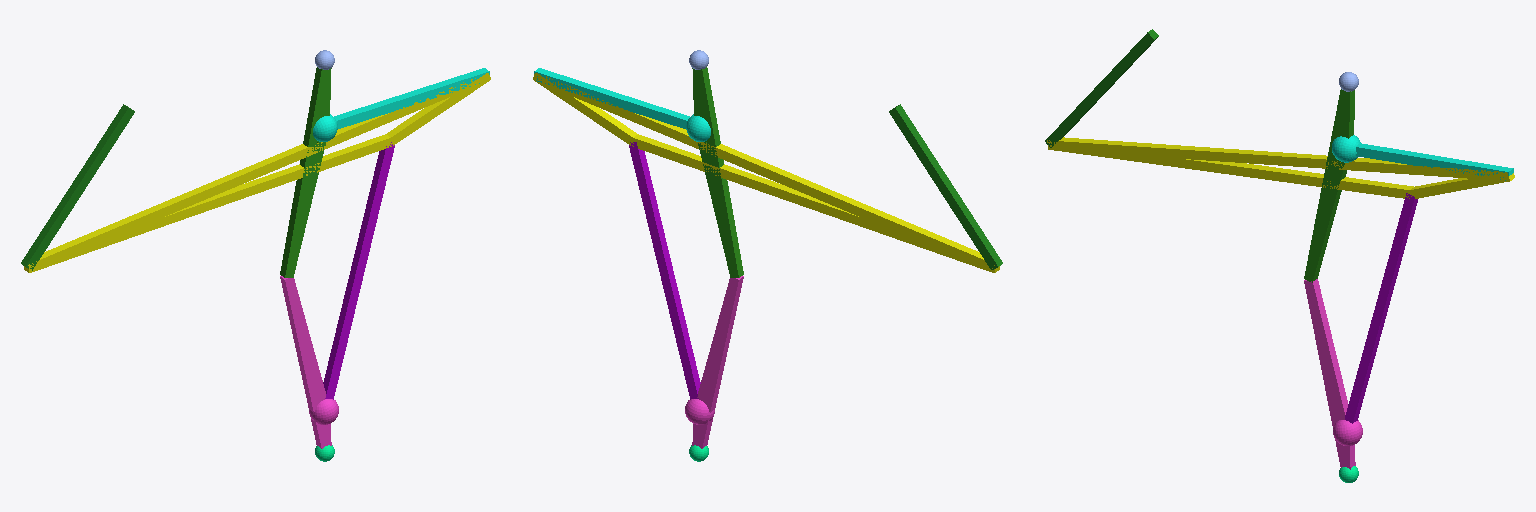
The robot description file, URDF, robot "Robot":
<?xml version="1.0"?>
<robot  name="Robot" >
 <link  name="L7" >
  <visual >
   <origin  rpy="0.0 0.0 0.0"  xyz="2.2558598182634495e-18 0.0 0.23043881490459198" />
   <geometry >
    <box  size="0.02 0.02 0.46087762980918395" />
   </geometry>
   <material  name="L7_">
    <color  rgba="0.22805773121194928 0.6120967953154014 0.1518055185515783 0.7" />
   </material>
  </visual>
  <collision  name="L7_0collision" >
   <origin  rpy="0.0 0.0 0.0"  xyz="2.2558598182634495e-18 0.0 0.23043881490459198" />
   <geometry >
    <box  size="0.02 0.02 0.46087762980918395" />
   </geometry>
  </collision>
  <visual >
   <origin  rpy="-3.141592653589793 -0.07190014748544638 3.141592653589793"  xyz="-0.011418202738261123 0.0 0.30234499271936227" />
   <geometry >
    <box  size="0.02 0.02 0.317886598499686" />
   </geometry>
   <material name="L7_">
    <color  rgba="0.22805773121194928 0.6120967953154014 0.1518055185515783 0.7" />
   </material>
  </visual>
  <collision  name="L7_1collision" >
   <origin  rpy="-3.141592653589793 -0.07190014748544638 3.141592653589793"  xyz="-0.011418202738261123 0.0 0.30234499271936227" />
   <geometry >
    <box  size="0.02 0.02 0.317886598499686" />
   </geometry>
  </collision>
  <visual >
   <origin  rpy="0.0 -0.15747823743771439 0.0"  xyz="-0.011418202738261125 0.0 0.07190617781477031" />
   <geometry >
    <box  size="0.02 0.02 0.14561419933099107" />
   </geometry>
   <material name="L7_">
    <color  rgba="0.22805773121194928 0.6120967953154014 0.1518055185515783 0.7" />
   </material>
  </visual>
  <collision  name="L7_2collision" >
   <origin  rpy="0.0 -0.15747823743771439 0.0"  xyz="-0.011418202738261125 0.0 0.07190617781477031" />
   <geometry >
    <box  size="0.02 0.02 0.14561419933099107" />
   </geometry>
  </collision>
  <inertial >
   <origin  rpy="0.0 0.0 0.0"  xyz="-0.00761 0.0 0.20156" />
   <mass  value="0.14839951685427272" />
   <inertia  iyy="0.0013795531334773483"  ixx="0.0013802003079160677"  ixy="6.119627755455107e-22"  izz="9.246126684898068e-06"  ixz="-1.6309410470624286e-05"  iyz="-7.763056961585554e-23" />
  </inertial>
 </link>
 <link  name="G" >
  <visual >
   <origin  rpy="0.0 0.0 0.0"  xyz="0.0 0.0 0.0" />
   <geometry >
    <sphere  radius="0.02" />
   </geometry>
   <material name="G_">
    <color  rgba="0.6471661013432043 0.7522130508474295 0.9849666425566113 0.7" />
   </material>
  </visual>
  <collision  name="G_collision" >
   <origin  rpy="0.0 0.0 0.0"  xyz="0.0 0.0 0.0" />
   <geometry >
    <sphere  radius="0.02" />
   </geometry>
  </collision>
  <inertial >
   <origin  rpy="0.0 0.0 0.0"  xyz="0.0 0.0 0.0" />
   <mass  value="0.047249553509990494" />
   <inertia  iyy="7.55992856159848e-06"  ixx="7.55992856159848e-06"  ixy="0.0"  izz="7.55992856159848e-06"  ixz="0.0"  iyz="0.0" />
  </inertial>
 </link>
 <link  name="L6" >
  <visual >
   <origin  rpy="0.0 -0.05297851195307901 0.0"  xyz="-0.008603636141404636 0.0 0.16224663505260734" />
   <geometry >
    <box  size="0.02 0.02 0.3249491845858219" />
   </geometry>
   <material name="L6_">
    <color  rgba="0.9338020296180713 0.31857780988113427 0.8094810326335653 0.7" />
   </material>
  </visual>
  <collision  name="L6_0collision" >
   <origin  rpy="0.0 -0.05297851195307901 0.0"  xyz="-0.008603636141404636 0.0 0.16224663505260734" />
   <geometry >
    <box  size="0.02 0.02 0.3249491845858219" />
   </geometry>
  </collision>
  <visual >
   <origin  rpy="0.0 0.0 0.0"  xyz="2.7755575615628914e-17 0.0 0.20723453410371823" />
   <geometry >
    <box  size="0.02 0.02 0.41446906820743645" />
   </geometry>
   <material name="L6_">
    <color  rgba="0.9338020296180713 0.31857780988113427 0.8094810326335653 0.7" />
   </material>
  </visual>
  <collision  name="L6_1collision" >
   <origin  rpy="0.0 0.0 0.0"  xyz="2.7755575615628914e-17 0.0 0.20723453410371823" />
   <geometry >
    <box  size="0.02 0.02 0.41446906820743645" />
   </geometry>
  </collision>
  <visual >
   <origin  rpy="0.0 0.1889616931375886 0.0"  xyz="-0.00860363614140458 0.0 0.36948116915632556" />
   <geometry >
    <box  size="0.02 0.02 0.09160641060289676" />
   </geometry>
   <material name="L6_">
    <color  rgba="0.9338020296180713 0.31857780988113427 0.8094810326335653 0.7" />
   </material>
  </visual>
  <collision  name="L6_2collision" >
   <origin  rpy="0.0 0.1889616931375886 0.0"  xyz="-0.00860363614140458 0.0 0.36948116915632556" />
   <geometry >
    <box  size="0.02 0.02 0.09160641060289676" />
   </geometry>
  </collision>
  <inertial >
   <origin  rpy="0.0 0.0 0.0"  xyz="-0.00574 0.0 0.24632" />
   <mass  value="0.10055953774321144" />
   <inertia  iyy="0.0007982424938455275"  ixx="0.0007999403268716969"  ixy="7.77549775799846e-23"  izz="5.006136156711119e-06"  ixz="1.127218193266216e-05"  iyz="0.0" />
  </inertial>
 </link>
 <link  name="EE" >
  <visual >
   <origin  rpy="0.0 0.0 0.0"  xyz="0.0 0.0 0.0" />
   <geometry >
    <sphere  radius="0.02" />
   </geometry>
   <material name="EE_">
    <color  rgba="0.06555796778691025 0.9586798728904428 0.6235813953121928 0.7" />
   </material>
  </visual>
  <collision  name="EE_collision" >
   <origin  rpy="0.0 0.0 0.0"  xyz="0.0 0.0 0.0" />
   <geometry >
    <sphere  radius="0.02" />
   </geometry>
  </collision>
  <inertial >
   <origin  rpy="0.0 0.0 0.0"  xyz="0.0 0.0 0.0" />
   <mass  value="0.047249553509990494" />
   <inertia  iyy="7.55992856159848e-06"  ixx="7.55992856159848e-06"  ixy="0.0"  izz="7.55992856159848e-06"  ixz="0.0"  iyz="0.0" />
  </inertial>
 </link>
 <link  name="L3" >
  <visual >
   <origin  rpy="0.0 0.0 0.0"  xyz="0.0 0.0 0.18861" />
   <geometry >
    <box  size="0.02 0.02 0.3772164653355748" />
   </geometry>
   <material name="L3_">
    <color  rgba="0.17713714233133848 0.5456505310703439 0.1626445122303456 0.7" />
   </material>
  </visual>
  <collision  name="L3_collision" >
   <origin  rpy="0.0 0.0 0.0"  xyz="0.0 0.0 0.18861" />
   <geometry >
    <box  size="0.02 0.02 0.3772164653355748" />
   </geometry>
  </collision>
  <inertial >
   <origin  rpy="0.0 0.0 0.0"  xyz="0.0 0.0 0.18861" />
   <mass  value="0.2127500864492642" />
   <inertia  iyy="0.0025298159180522826"  ixx="0.0025298159180522826"  ixy="0.0"  izz="1.4183339096617613e-05"  ixz="0.0"  iyz="0.0" />
  </inertial>
 </link>
 <link  name="L4" >
  <visual >
   <origin  rpy="0.0 4.440892098500626e-16 0.0"  xyz="-5.551115123125783e-17 0.0 0.5359497273105445" />
   <geometry >
    <box  size="0.02 0.02 1.071899454621089" />
   </geometry>
   <material name="L4_">
    <color  rgba="0.9017222272963605 0.9027480451842569 0.0729823810295438 0.7" />
   </material>
  </visual>
  <collision  name="L4_0collision" >
   <origin  rpy="0.0 4.440892098500626e-16 0.0"  xyz="-5.551115123125783e-17 0.0 0.5359497273105445" />
   <geometry >
    <box  size="0.02 0.02 1.071899454621089" />
   </geometry>
  </collision>
  <visual >
   <origin  rpy="3.141592653589793 0.22450775114872523 3.141592653589793"  xyz="0.027072813316937755 0.0 0.9533448815741774" />
   <geometry >
    <box  size="0.02 0.02 0.24321286159435923" />
   </geometry>
   <material name="L4_">
    <color  rgba="0.9017222272963605 0.9027480451842569 0.0729823810295438 0.7" />
   </material>
  </visual>
  <collision  name="L4_1collision" >
   <origin  rpy="3.141592653589793 0.22450775114872523 3.141592653589793"  xyz="0.027072813316937755 0.0 0.9533448815741774" />
   <geometry >
    <box  size="0.02 0.02 0.24321286159435923" />
   </geometry>
  </collision>
  <visual >
   <origin  rpy="0.0 0.06477062209215423 0.0"  xyz="0.02707281331693781 0.0 0.417395154263633" />
   <geometry >
    <box  size="0.02 0.02 0.8365444447814013" />
   </geometry>
   <material name="L4_">
    <color  rgba="0.9017222272963605 0.9027480451842569 0.0729823810295438 0.7" />
   </material>
  </visual>
  <collision  name="L4_2collision" >
   <origin  rpy="0.0 0.06477062209215423 0.0"  xyz="0.02707281331693781 0.0 0.417395154263633" />
   <geometry >
    <box  size="0.02 0.02 0.8365444447814013" />
   </geometry>
  </collision>
  <inertial >
   <origin  rpy="0.0 0.0 0.0"  xyz="0.01805 0.0 0.63556" />
   <mass  value="0.8183452139914555" />
   <inertia  iyy="0.04337064931756292"  ixx="0.043264639563651376"  ixy="8.429883649311612e-21"  izz="0.00016056610151095593"  ixz="-0.0007356428124067383"  iyz="9.37777280959548e-20" />
  </inertial>
 </link>
 <link  name="L8" >
  <visual >
   <origin  rpy="0.0 0.0 0.0"  xyz="-0.0 0.0 0.1893" />
   <geometry >
    <box  size="0.02 0.02 0.3785900609862303" />
   </geometry>
   <material name="L8_">
    <color  rgba="0.10420351058316157 0.9412420404536782 0.8427520062693113 0.7" />
   </material>
  </visual>
  <collision  name="L8_collision" >
   <origin  rpy="0.0 0.0 0.0"  xyz="-0.0 0.0 0.1893" />
   <geometry >
    <box  size="0.02 0.02 0.3785900609862303" />
   </geometry>
  </collision>
  <inertial >
   <origin  rpy="0.0 0.0 0.0"  xyz="-0.0 0.0 0.1893" />
   <mass  value="0.21352479439623392" />
   <inertia  iyy="0.0025575009522997415"  ixx="0.0025575009522997415"  ixy="0.0"  izz="1.4234986293082262e-05"  ixz="0.0"  iyz="0.0" />
  </inertial>
 </link>
 <link  name="L5" >
  <visual >
   <origin  rpy="0.0 0.0 0.0"  xyz="0.0 0.0 0.28823" />
   <geometry >
    <box  size="0.02 0.02 0.5764582971335448" />
   </geometry>
   <material name="L5_">
    <color  rgba="0.7347828391680242 0.07258411530814457 0.8457535229679948 0.7" />
   </material>
  </visual>
  <collision  name="L5_collision" >
   <origin  rpy="0.0 0.0 0.0"  xyz="0.0 0.0 0.28823" />
   <geometry >
    <box  size="0.02 0.02 0.5764582971335448" />
   </geometry>
  </collision>
  <inertial >
   <origin  rpy="0.0 0.0 0.0"  xyz="0.0 0.0 0.28823" />
   <mass  value="0.32512247958331925" />
   <inertia  iyy="0.00901413368137422"  ixx="0.00901413368137422"  ixy="0.0"  izz="2.1674831972221282e-05"  ixz="0.0"  iyz="0.0" />
  </inertial>
 </link>
 <joint  name="Ground_main"  type="revolute" >
  <parent  link="G" />
  <child  link="L7" />
  <origin  rpy="3.141592653589793 -0.19083519881055921 3.141592653589793"  xyz="0.0 0.0 0.0" />
  <axis  xyz="0 1 0" />
  <limit  velocity="17.907078125461823"  lower="-3.141592653589793"  effort="5.3999999999999995"  upper="3.141592653589793" />
  <dynamics  damping="0.05"  friction="0" />
 </joint>
 <joint  name="J0m"  type="revolute" >
  <parent  link="L7" />
  <child  link="L6" />
  <origin  rpy="0.0 -0.4033487460974359 0.0"  xyz="4.511719636526899e-18 0.0 0.46087762980918395" />
  <axis  xyz="0 1 0" />
  <limit  velocity="6.283185307179586"  lower="-3.141592653589793"  effort="600.0"  upper="3.141592653589793" />
  <dynamics  damping="0.05"  friction="0" />
 </joint>
 <joint  name="EE_JJ"  type="revolute" >
  <parent  link="L6" />
  <child  link="EE" />
  <origin  rpy="3.141592653589793 -0.21251354728687688 3.141592653589793"  xyz="8.326672684688674e-17 0.0 0.41446906820743645" />
  <axis  xyz="0 1 0" />
  <limit  velocity="6.283185307179586"  lower="-3.141592653589793"  effort="600.0"  upper="3.141592653589793" />
  <dynamics  damping="0.05"  friction="0" />
 </joint>
 <joint  name="J0_0"  type="revolute" >
  <parent  link="G" />
  <child  link="L3" />
  <origin  rpy="3.141592653589793 -0.6776744833942576 3.141592653589793"  xyz="-0.44803263751078415 0.0 0.0" />
  <axis  xyz="0 1 0" />
  <limit  velocity="6.283185307179586"  lower="-3.141592653589793"  effort="600.0"  upper="3.141592653589793" />
  <dynamics  damping="0.05"  friction="0" />
 </joint>
 <joint  name="J1_0"  type="revolute" >
  <parent  link="L3" />
  <child  link="L4" />
  <origin  rpy="3.141592653589793 -0.7272651080805895 3.141592653589793"  xyz="5.551115123125783e-17 0.0 0.3772164653355747" />
  <axis  xyz="0 1 0" />
  <limit  velocity="6.283185307179586"  lower="-3.141592653589793"  effort="600.0"  upper="3.141592653589793" />
  <dynamics  damping="0.05"  friction="0" />
 </joint>
 <joint  name="J2_0"  type="revolute" >
  <parent  link="L4" />
  <child  link="L8" />
  <origin  rpy="3.141592653589793 -0.09014337909294401 3.141592653589793"  xyz="-1.1102230246251565e-16 0.0 1.071899454621089" />
  <axis  xyz="0 1 0" />
  <limit  velocity="6.283185307179586"  lower="-3.141592653589793"  effort="600.0"  upper="3.141592653589793" />
  <dynamics  damping="0.05"  friction="0" />
 </joint>
 <link  name="J3_0_L8Pseudo" >
  <visual >
   <geometry >
    <sphere  radius="0.03" />
   </geometry>
   <material name = "J3_0_">
    <color  rgba="0.10420351058316157 0.9412420404536782 0.8427520062693113 0.5" />
   </material>
  </visual>
 </link>
 <joint  name="J3_0_L8_revolute"  type="revolute" >
  <parent  link="L8" />
  <child  link="J3_0_L8Pseudo" />
  <origin  rpy="0.0 0.0 0.0"  xyz="-5.551115123125783e-17 0.0 0.3785900609862303" />
  <axis  xyz="0 1 0" />
  <limit  velocity="6.283185307179586"  lower="-3.141592653589793"  effort="600.0"  upper="3.141592653589793" />
  <dynamics  damping="0.05"  friction="0" />
 </joint>
 <joint  name="J3_0_L8_fix"  type="fixed" >
  <parent  link="L7" />
  <child  link="J3_0_L7Pseudo" />
  <origin  rpy="0.0 1.3042477717572325 0.0"  xyz="-0.02283640547652227 0.0 0.14381235562954064" />
 </joint>
 <link  name="J3_0_L7Pseudo" >
  <visual >
   <geometry >
    <sphere  radius="0.03" />
   </geometry>
   <material name = "J3_0_">
    <color  rgba="0.22805773121194928 0.6120967953154014 0.1518055185515783 0.5" />
   </material>
  </visual>
 </link>
 <joint  name="J4_1_0"  type="revolute" >
  <parent  link="L4" />
  <child  link="L5" />
  <origin  rpy="3.141592653589793 1.1418973044975522 3.141592653589793"  xyz="0.05414562663387562 0.0 0.834790308527266" />
  <axis  xyz="0 1 0" />
  <limit  velocity="6.283185307179586"  lower="-3.141592653589793"  effort="600.0"  upper="3.141592653589793" />
  <dynamics  damping="0.05"  friction="0" />
 </joint>
 <link  name="J5_1_0_L6Pseudo" >
  <visual >
   <geometry >
    <sphere  radius="0.03" />
   </geometry>
   <material name = "J5_1_0_">
    <color  rgba="0.9338020296180713 0.31857780988113427 0.8094810326335653 0.5" />
   </material>
  </visual>
 </link>
 <joint  name="J5_1_0_L6_revolute"  type="revolute" >
  <parent  link="L6" />
  <child  link="J5_1_0_L6Pseudo" />
  <origin  rpy="0.0 0.0 0.0"  xyz="-0.017207272282809244 0.0 0.32449327010521467" />
  <axis  xyz="0 1 0" />
  <limit  velocity="6.283185307179586"  lower="-3.141592653589793"  effort="600.0"  upper="3.141592653589793" />
  <dynamics  damping="0.05"  friction="0" />
 </joint>
 <joint  name="J5_1_0_L6_fix"  type="fixed" >
  <parent  link="L5" />
  <child  link="J5_1_0_L5Pseudo" />
  <origin  rpy="0.0 -0.47555583426417214 0.0"  xyz="1.6653345369377348e-16 0.0 0.5764582971335448" />
 </joint>
 <link  name="J5_1_0_L5Pseudo" >
  <visual >
   <geometry >
    <sphere  radius="0.03" />
   </geometry>
   <material name="J5_1_">
    <color  rgba="0.7347828391680242 0.07258411530814457 0.8457535229679948 0.5" />
   </material>
  </visual>
 </link>
</robot>

--- Facts derived from the render (not from the file) ---
3 views of the same robot in one strip: view 1: azimuth 30°, elevation 25°; view 2: azimuth 150°, elevation 25°; view 3: azimuth 330°, elevation 25° (orthographic).
Model Robot with 12 links and 11 joints (9 revolute, 2 fixed), rooted at G, posed every joint at zero.
Links seen in each view (by area): view 1: L4, L5, L7, L3, L6, L8, J5_1_0_L6Pseudo; view 2: L4, L5, L7, L3, L6, L8, J5_1_0_L6Pseudo; view 3: L4, L5, L7, L6, L8, L3, J5_1_0_L6Pseudo, J3_0_L8Pseudo.
Link boxes in pixels (x1,y1,x2,y2): L4: (24,73,490,272); L5: (323,142,394,399); L7: (280,67,331,277); L3: (21,104,134,270); L6: (280,276,331,448); L8: (334,68,489,128); J5_1_0_L6Pseudo: (309,399,338,424); L4: (533,73,999,272); L5: (629,142,700,399); L7: (692,67,743,277); L3: (889,104,1002,269); L6: (692,276,743,448); L8: (534,68,689,128); J5_1_0_L6Pseudo: (685,399,714,424); L4: (1047,137,1514,198); L5: (1345,193,1417,423); L7: (1304,89,1354,282); L6: (1304,279,1355,469); L8: (1356,143,1513,180); L3: (1045,29,1158,147); J5_1_0_L6Pseudo: (1333,420,1362,445); J3_0_L8Pseudo: (1332,135,1360,162).
Size in the robot's own frame: 1.07 by 0.06 by 0.8977 metres.
Geometry: primitives only (box / cylinder / sphere), no mesh files.